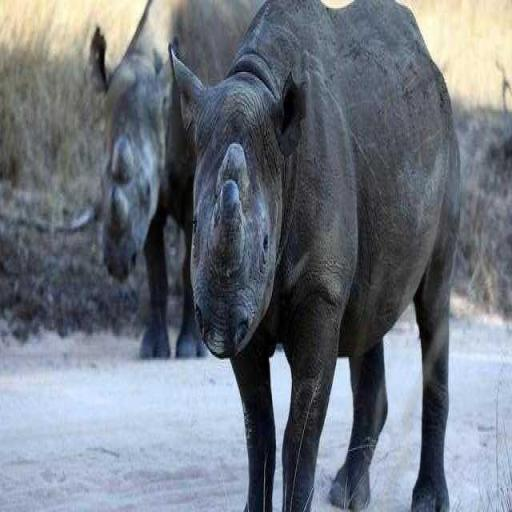Rhino: (166, 0, 462, 509), (76, 0, 250, 360)
